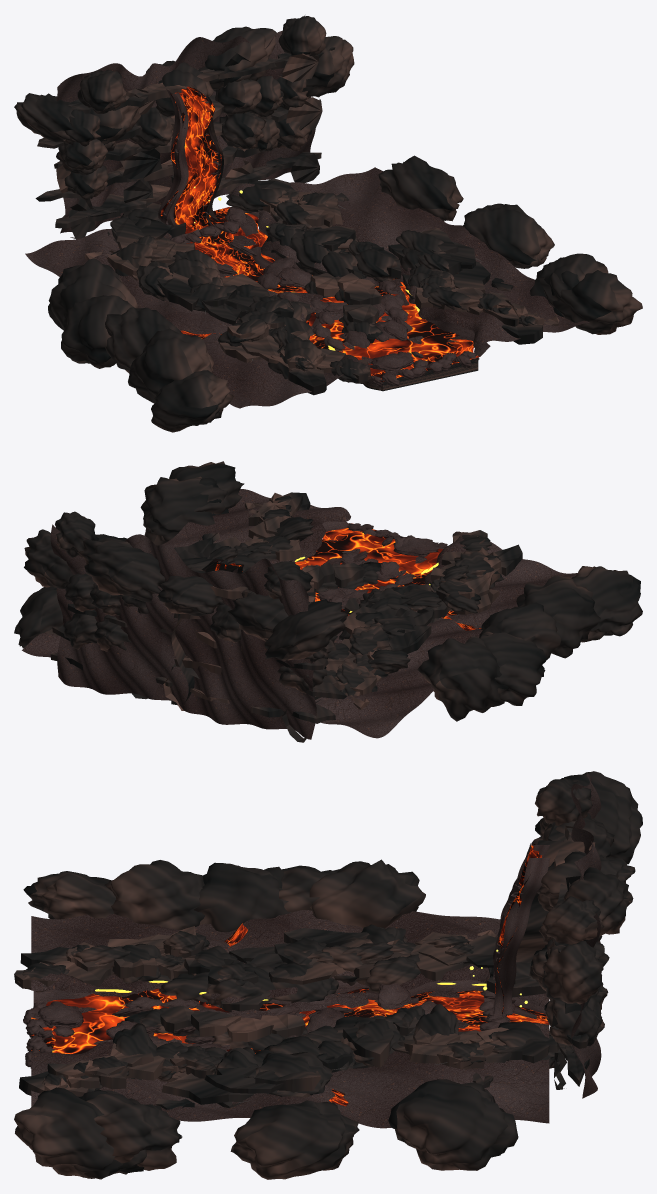
File: b4-magma-river-p2-v4.glb
The picture shows the model from 3 angles, top to bottom: view 1: azimuth 30°, elevation 25°; view 2: azimuth 150°, elevation 25°; view 3: azimuth 270°, elevation 25°; orthographic projection. The views are drawn at different scales.
Parts seen in each view (by area): view 1: ERODED_BASALT_BANK_1, ERODED_BASALT_BANK_-1, CONTINUOUS_FRACTURED_BASALT_CLIFF, FALLING_MAGMA_CASCADE, CAVERN_ROCK_FACE, CAVERN_ROCK_FACE.001, CAVERN_ROCK_FACE.008, CAVERN_ROCK_FACE.005, CAVERN_ROCK_FACE.004, MEANDERING_MOLTEN_CHANNEL, CAVERN_ROCK_FACE.007, MOLTEN_POOL_WIDENING (+50 smaller); view 2: CONTINUOUS_FRACTURED_BASALT_CLIFF, ERODED_BASALT_BANK_-1, CAVERN_ROCK_FACE.009, ERODED_BASALT_BANK_1, REAR_IRREGULAR_BASALT_OVERHANG.003, CAVERN_ROCK_FACE.006, CAVERN_ROCK_FACE.001, CAVERN_ROCK_FACE.005, REAR_IRREGULAR_BASALT_OVERHANG, CAVERN_ROCK_FACE.007, MOLTEN_POOL_WIDENING, CAVERN_ROCK_FACE.003 (+34 smaller); view 3: ERODED_BASALT_BANK_1, ERODED_BASALT_BANK_-1, CAVERN_ROCK_FACE.004, CAVERN_ROCK_FACE, CAVERN_ROCK_FACE.008, CAVERN_ROCK_FACE.009, CAVERN_ROCK_FACE.001, CAVERN_ROCK_FACE.003, CAVERN_ROCK_FACE.006, CAVERN_ROCK_FACE.005, MEANDERING_MOLTEN_CHANNEL, MOLTEN_POOL_WIDENING (+57 smaller).
Part boxes in pixels (x1,y1,x2,y2): ERODED_BASALT_BANK_1: [230, 167, 589, 350]; ERODED_BASALT_BANK_-1: [25, 229, 379, 408]; CONTINUOUS_FRACTURED_BASALT_CLIFF: [56, 15, 315, 233]; FALLING_MAGMA_CASCADE: [160, 86, 221, 233]; CAVERN_ROCK_FACE: [463, 203, 554, 268]; CAVERN_ROCK_FACE.001: [128, 328, 213, 403]; CAVERN_ROCK_FACE.008: [552, 270, 642, 334]; CAVERN_ROCK_FACE.005: [151, 370, 233, 432]; CAVERN_ROCK_FACE.004: [378, 155, 463, 221]; MEANDERING_MOLTEN_CHANNEL: [186, 207, 479, 382]; CAVERN_ROCK_FACE.007: [61, 295, 134, 368]; MOLTEN_POOL_WIDENING: [309, 303, 459, 374]; CONTINUOUS_FRACTURED_BASALT_CLIFF: [50, 524, 316, 739]; ERODED_BASALT_BANK_-1: [315, 531, 577, 738]; CAVERN_ROCK_FACE.009: [417, 636, 508, 721]; ERODED_BASALT_BANK_1: [22, 489, 350, 657]; REAR_IRREGULAR_BASALT_OVERHANG.003: [77, 538, 165, 602]; CAVERN_ROCK_FACE.006: [140, 476, 228, 545]; CAVERN_ROCK_FACE.001: [516, 575, 600, 658]; CAVERN_ROCK_FACE.005: [571, 566, 642, 642]; REAR_IRREGULAR_BASALT_OVERHANG: [264, 599, 347, 660]; CAVERN_ROCK_FACE.007: [479, 631, 546, 705]; MOLTEN_POOL_WIDENING: [295, 532, 442, 596]; CAVERN_ROCK_FACE.003: [479, 602, 561, 660]; ERODED_BASALT_BANK_1: [31, 1015, 549, 1128]; ERODED_BASALT_BANK_-1: [31, 910, 549, 1007]; CAVERN_ROCK_FACE.004: [388, 1079, 518, 1170]; CAVERN_ROCK_FACE: [230, 1100, 359, 1179]; CAVERN_ROCK_FACE.008: [14, 1087, 122, 1179]; CAVERN_ROCK_FACE.009: [309, 859, 425, 928]; CAVERN_ROCK_FACE.001: [104, 860, 204, 929]; CAVERN_ROCK_FACE.003: [194, 862, 291, 932]; CAVERN_ROCK_FACE.006: [86, 1092, 182, 1170]; CAVERN_ROCK_FACE.005: [23, 871, 115, 919]; MEANDERING_MOLTEN_CHANNEL: [31, 988, 549, 1053]; MOLTEN_POOL_WIDENING: [46, 993, 226, 1054].
Bounding box in the file's own units: 8.52 × 3.31 × 8.14.
Materials: 7 (4 with a texture image).
